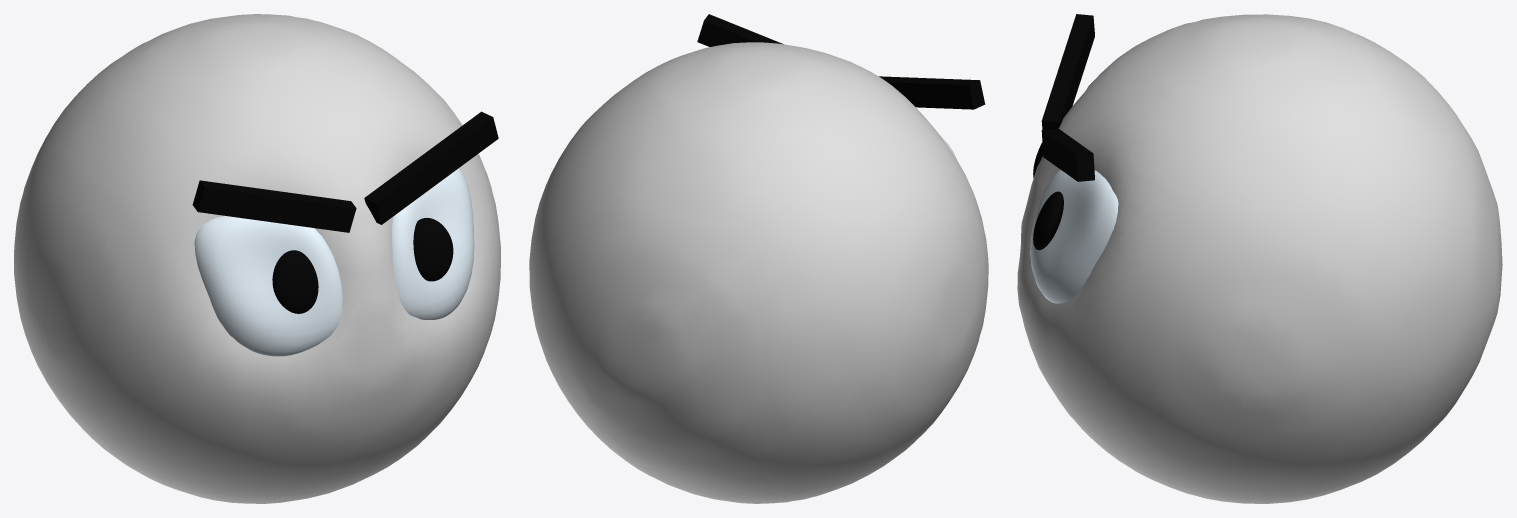
The model's file is Golfy.fbx.
3 views of the same model, side by side, from view 1: azimuth 30°, elevation 25°; view 2: azimuth 150°, elevation 25°; view 3: azimuth 270°, elevation 25° (orthographic). The views are drawn at different scales.
Visible parts, largest first — view 1: Sphere, Sphere.001, Cube, Sphere.002; view 2: Sphere, Cube; view 3: Sphere, Sphere.001, Cube, Sphere.002.
Part boxes in pixels (x1,y1,x2,y2): Sphere: (14, 14, 500, 503); Sphere.001: (194, 168, 474, 356); Cube: (192, 111, 498, 232); Sphere.002: (272, 218, 453, 313); Sphere: (529, 42, 988, 503); Cube: (697, 14, 985, 109); Sphere: (1017, 14, 1502, 503); Sphere.001: (1030, 169, 1118, 303); Cube: (1041, 14, 1094, 181); Sphere.002: (1033, 143, 1063, 250).
Size of the model in its own units: 194 by 195 by 194.
